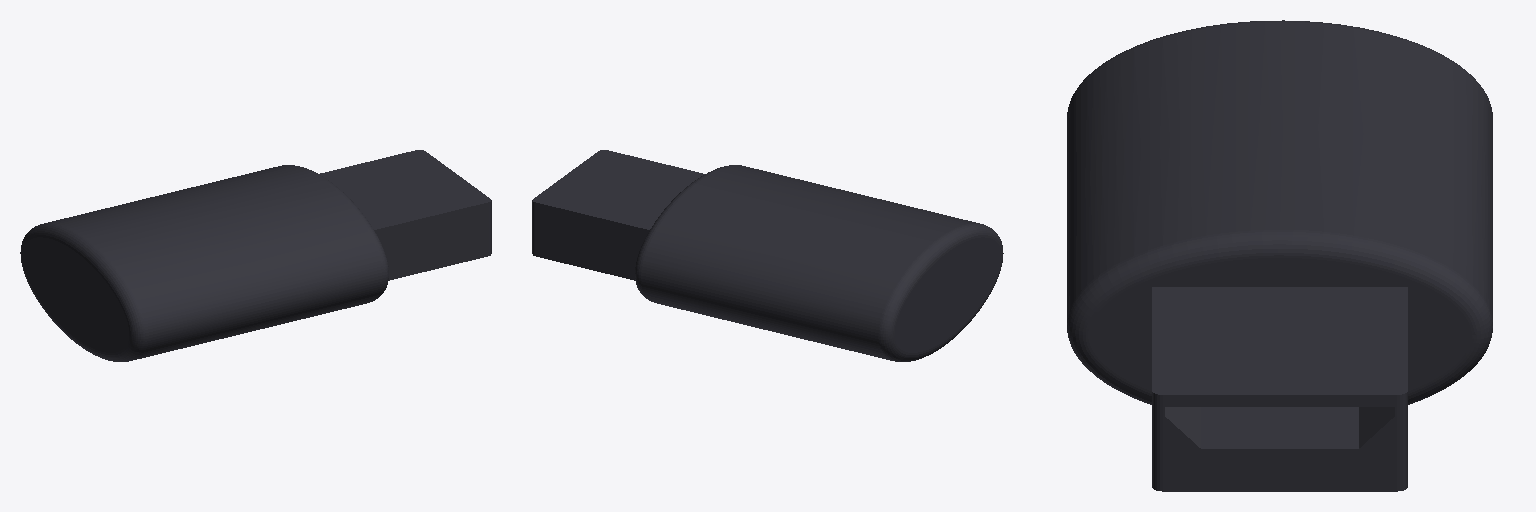
The robot description file, URDF, robot "cb_usb_stick_3":
<?xml version="1.0"?>
<!-- ContactBench usb_stick_3. Generated by FoundationTouch tools/contactbench/usb_tasks.py (A12) -->
<robot name="cb_usb_stick_3">
  <material name="c"><color rgba="0.25 0.25 0.28 1.0"/></material>
  <link name="object">
    <visual><origin xyz="0 0 0" rpy="0 0 0"/><geometry><mesh filename="usb_stick_3.obj" scale="1 1 1"/></geometry><material name="c"/></visual>
    <collision><origin xyz="0 0 0" rpy="0 0 0"/><geometry><mesh filename="coll_00.obj" scale="1 1 1"/></geometry></collision>
    <collision><origin xyz="0 0 0" rpy="0 0 0"/><geometry><mesh filename="coll_01.obj" scale="1 1 1"/></geometry></collision>
    <collision><origin xyz="0 0 0" rpy="0 0 0"/><geometry><mesh filename="coll_02.obj" scale="1 1 1"/></geometry></collision>
    <collision><origin xyz="0 0 0" rpy="0 0 0"/><geometry><mesh filename="coll_03.obj" scale="1 1 1"/></geometry></collision>
    <collision><origin xyz="0 0 0" rpy="0 0 0"/><geometry><mesh filename="coll_04.obj" scale="1 1 1"/></geometry></collision>
    <inertial><mass value="0.015000"/><origin xyz="0 0 0" rpy="0 0 0"/><inertia ixx="4.437285e-07" ixy="-2.180611e-11" ixz="1.238735e-08" iyy="1.288100e-06" iyz="-2.604056e-11" izz="1.557300e-06"/></inertial>
  </link>
</robot>

--- What the picture shows (computed from the rendered views, not written in the file) ---
3 views of the same robot in one strip: view 1: azimuth 30°, elevation 25°; view 2: azimuth 150°, elevation 25°; view 3: azimuth 270°, elevation 25° (orthographic).
Robot: cb_usb_stick_3 — 1 links, 0 joints (none); root link object; default pose: every joint at zero.
Links seen in each view (by area): view 1: object; view 2: object; view 3: object.
Boxes of the visible links, bbox=[...] form: object: bbox=[20, 150, 491, 361]; object: bbox=[532, 150, 1003, 361]; object: bbox=[1067, 20, 1492, 491].
Size in the robot's own frame: 0.037 by 0.02 by 0.01 metres.
Meshes: 1 distinct files referenced, 1 mesh visuals loaded (1 OBJ).
